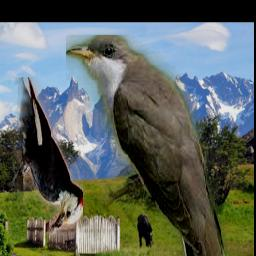Cuckoo: (67, 35, 228, 256)
Woodpecker: (9, 78, 84, 238)
